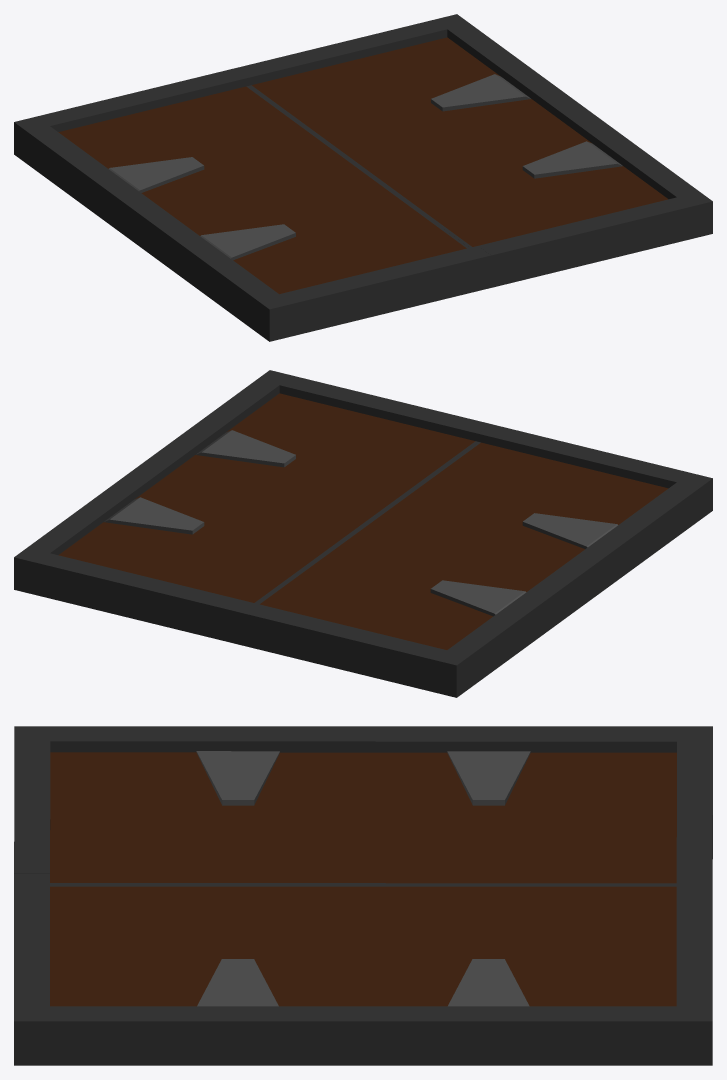
File: TrapDoor.fbx
The picture shows the model from 3 angles, top to bottom: view 1: azimuth 30°, elevation 25°; view 2: azimuth 150°, elevation 25°; view 3: azimuth 270°, elevation 25°; orthographic projection. The views are drawn at different scales.
Parts seen in each view (by area): view 1: TrapDoorLD, TrapDoorRD; view 2: TrapDoorLD, TrapDoorRD; view 3: TrapDoorRD, TrapDoorLD.
Part boxes in pixels (x1,y1,x2,y2): TrapDoorLD: [14, 68, 491, 341]; TrapDoorRD: [236, 14, 712, 287]; TrapDoorLD: [235, 424, 712, 697]; TrapDoorRD: [14, 370, 490, 643]; TrapDoorRD: [14, 874, 712, 1065]; TrapDoorLD: [14, 726, 712, 884].
Size of the model in its own units: 200 by 14 by 200.
